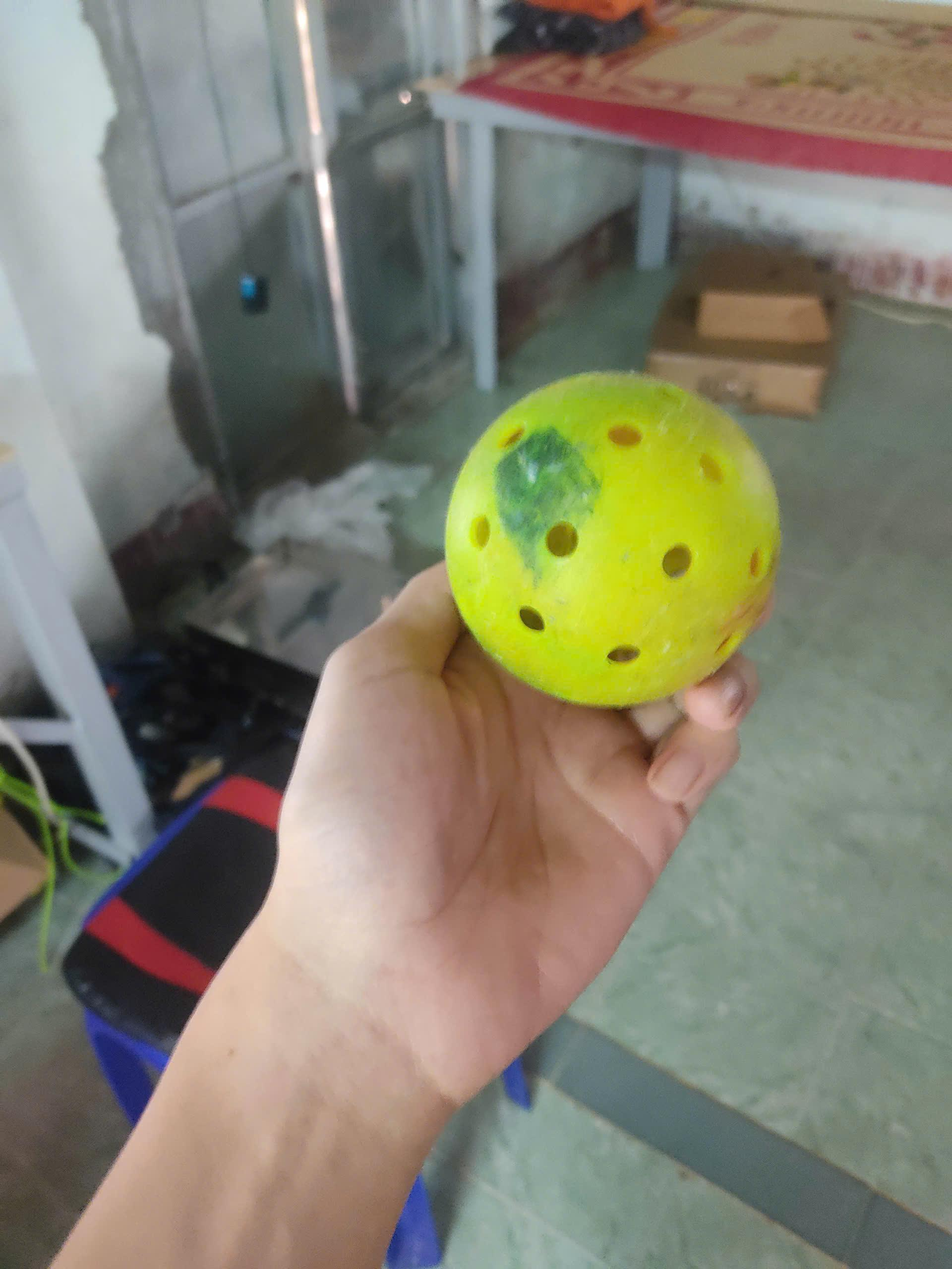ball: (436, 345, 804, 728)
